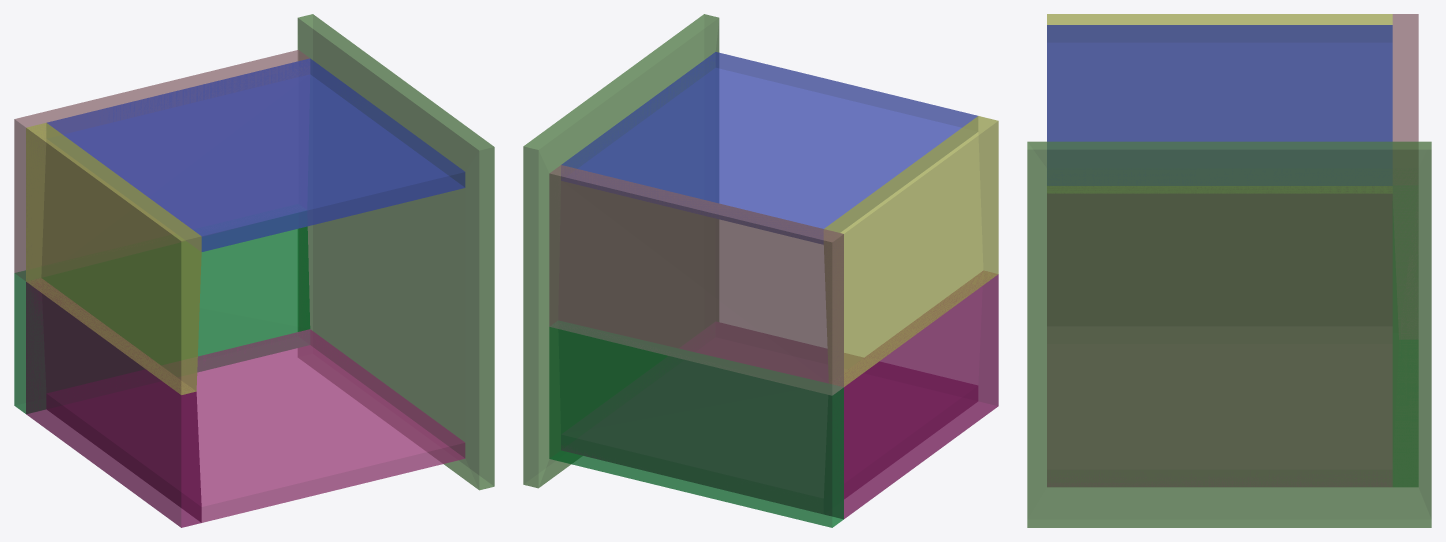
Rendered from Drawer_60_58.obj.
3 renders of one model, left to right at view 1: azimuth 30°, elevation 25°; view 2: azimuth 150°, elevation 25°; view 3: azimuth 270°, elevation 25°, orthographic. The views are drawn at different scales.
Visible parts, largest first — view 1: Shape_IndexedFaceSet_Shape_IndexedFaceSet.098; view 2: Shape_IndexedFaceSet_Shape_IndexedFaceSet.098; view 3: Shape_IndexedFaceSet_Shape_IndexedFaceSet.098.
Boxes of the visible parts, x1,y1,x2,y2 form: Shape_IndexedFaceSet_Shape_IndexedFaceSet.098: (14, 14, 494, 527); Shape_IndexedFaceSet_Shape_IndexedFaceSet.098: (523, 14, 998, 527); Shape_IndexedFaceSet_Shape_IndexedFaceSet.098: (1027, 14, 1431, 527).
Size of the model in its own units: 0.5667 by 0.6044 by 0.5856.
